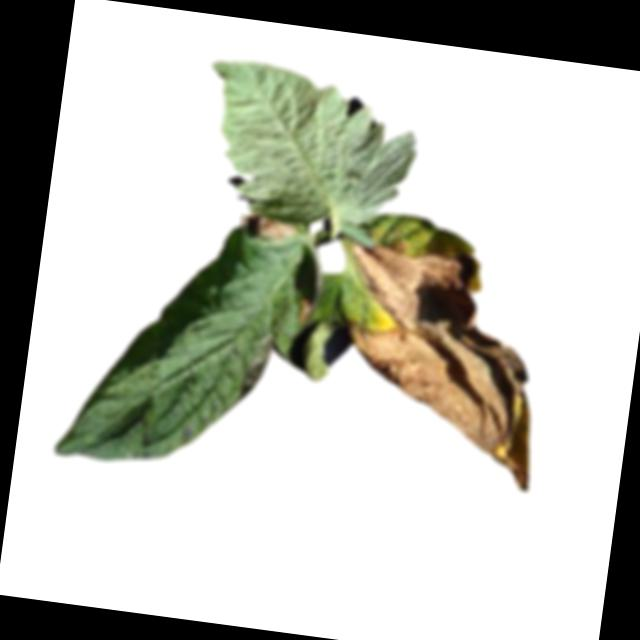Late_blight: (313, 229, 559, 493), (236, 327, 276, 405), (236, 209, 300, 247), (291, 295, 317, 328)
healthy: (190, 56, 425, 239)
